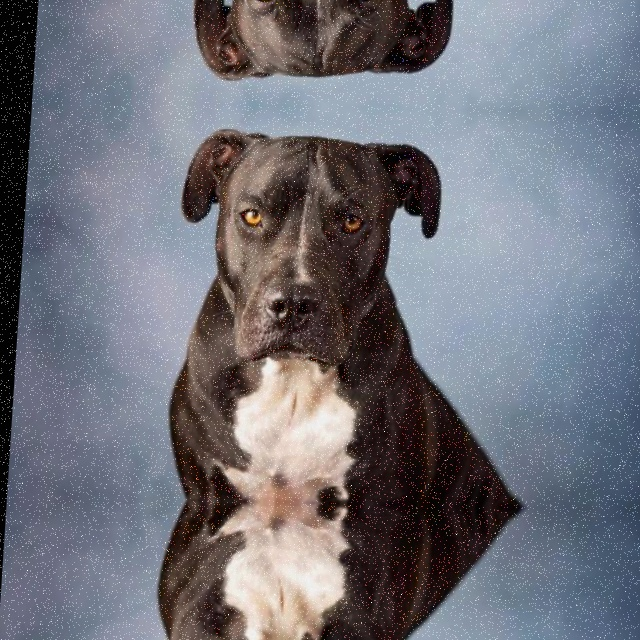dog: (157, 117, 459, 389), (176, 0, 470, 94), (140, 615, 428, 640)
